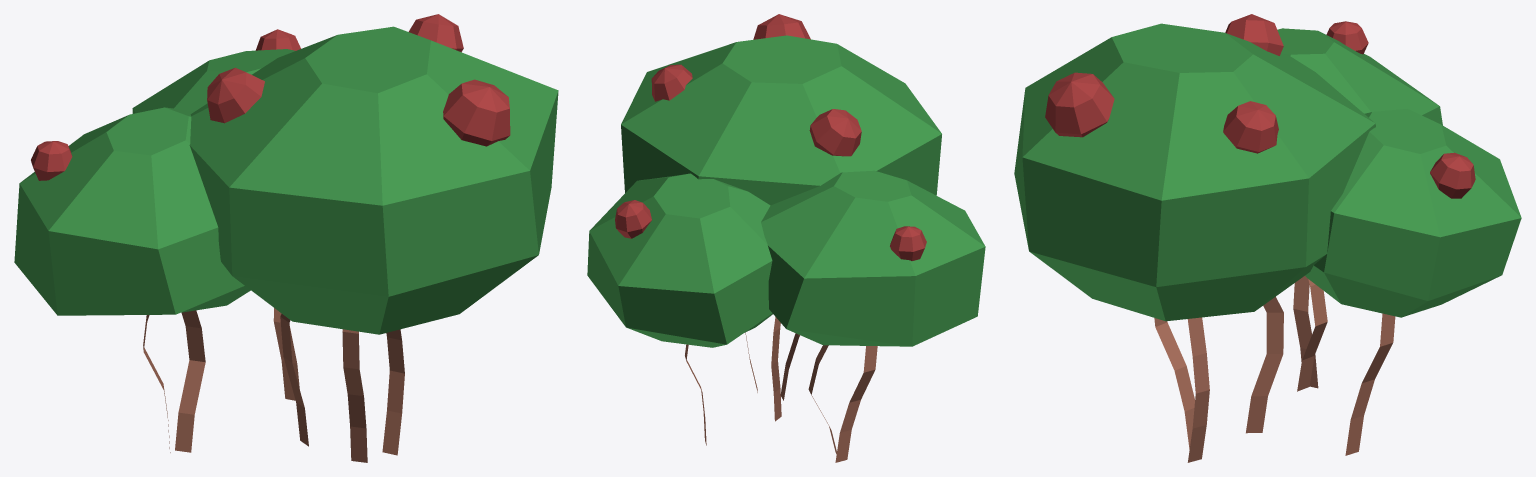
File: TallBush.fbx
3 views of the same model, side by side, from view 1: azimuth 30°, elevation 25°; view 2: azimuth 150°, elevation 25°; view 3: azimuth 270°, elevation 25° (orthographic). The views are drawn at different scales.
Parts seen in each view (by area): view 1: TallBush; view 2: TallBush; view 3: TallBush.
Part boxes in pixels (x1,y1,x2,y2): TallBush: [14, 14, 558, 462]; TallBush: [587, 14, 985, 462]; TallBush: [1014, 14, 1521, 462].
Size of the model in its own units: 9.12 by 7.83 by 8.84.
